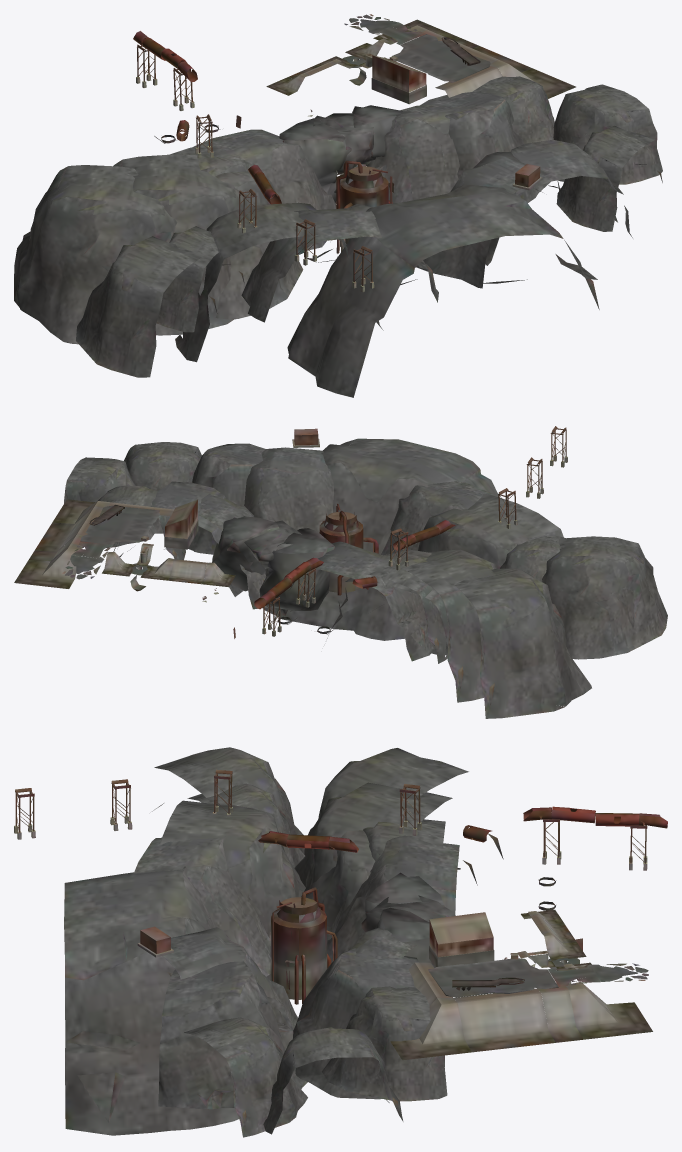
Rendered from radtown_small_3.glb.
3 views of the same model, one above another, from view 1: azimuth 30°, elevation 25°; view 2: azimuth 150°, elevation 25°; view 3: azimuth 270°, elevation 25° (orthographic). The views are drawn at different scales.
Visible parts, largest first — view 1: sewer_branch_hlod; view 2: sewer_branch_hlod; view 3: sewer_branch_hlod.
Boxes of the visible parts, box(x1,y1,x2,y2) form: sewer_branch_hlod: box(14, 14, 662, 397); sewer_branch_hlod: box(14, 426, 667, 718); sewer_branch_hlod: box(14, 747, 667, 1137).
Bounding box in the file's own units: 165 × 45.88 × 136.
Materials: 1 (1 with a texture image).
